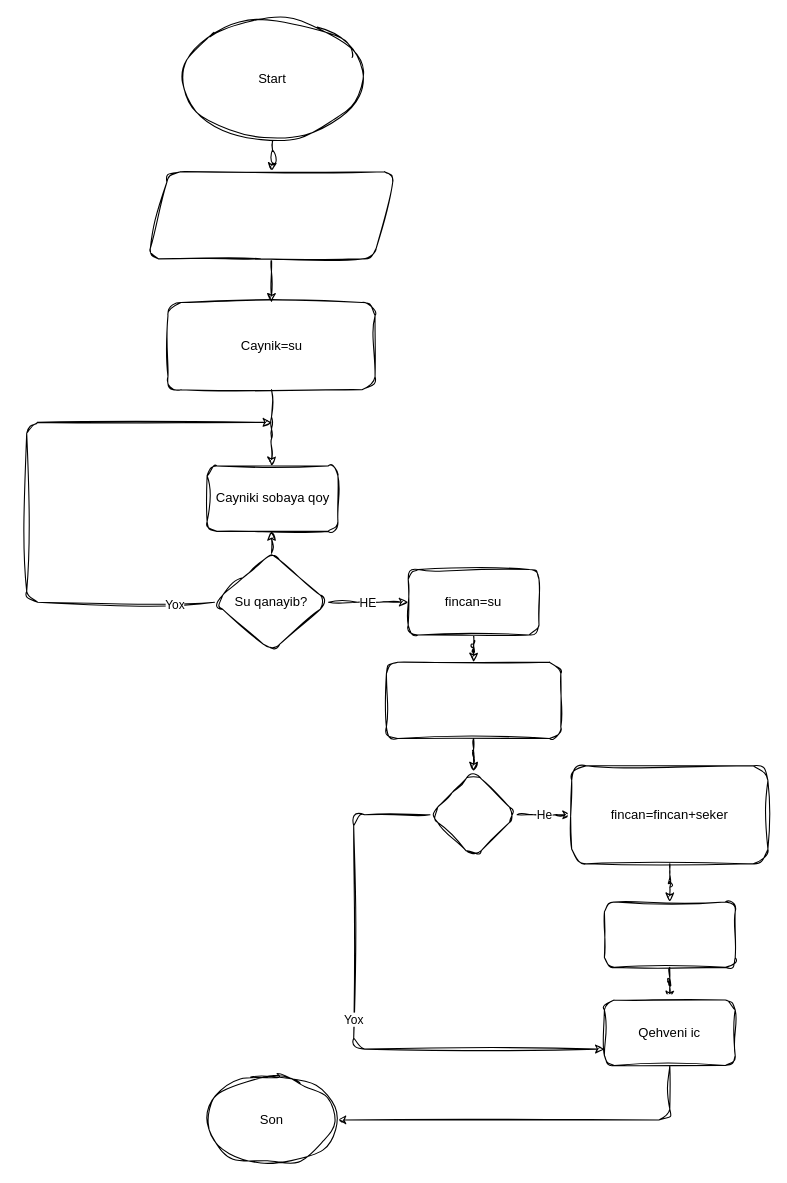
This 787x1183 diagram has some shape labels left out. The centre of each missing label's shape, as x and y in pixels:
cay, caynik,su,seker,soba,fincan: (x=271, y=215)
fincan=su+qehve: (x=473, y=699)
Qehveni qarisdir: (x=669, y=934)
Sekerli icir?: (x=473, y=814)
